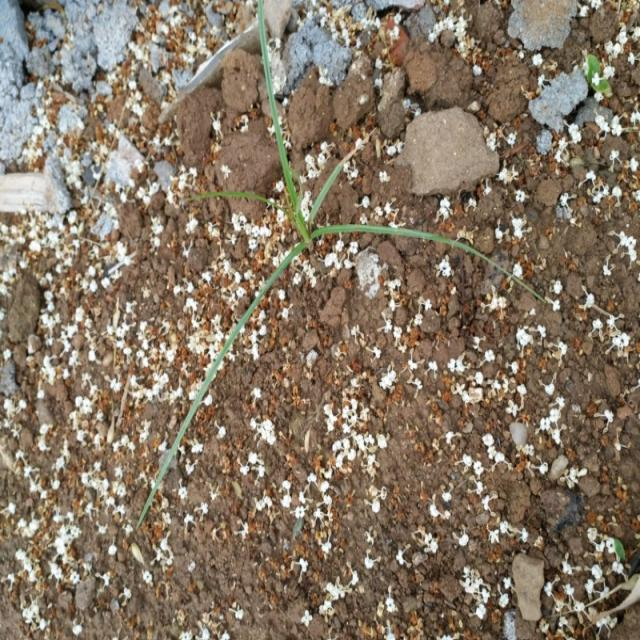sedge: (126, 36, 522, 486)
